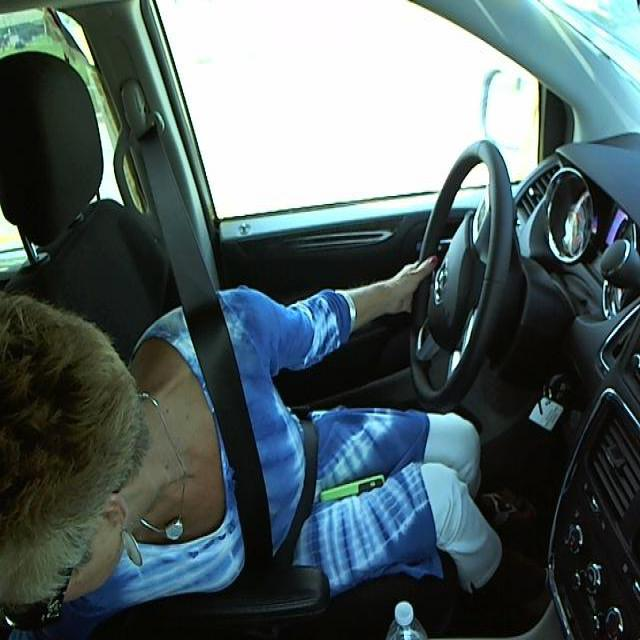seatbelt: (162, 324, 322, 557)
